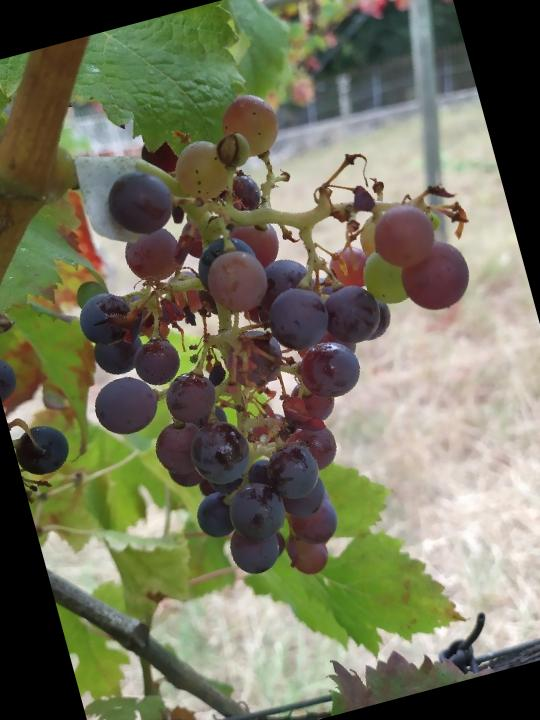grape: (17, 44, 539, 623)
